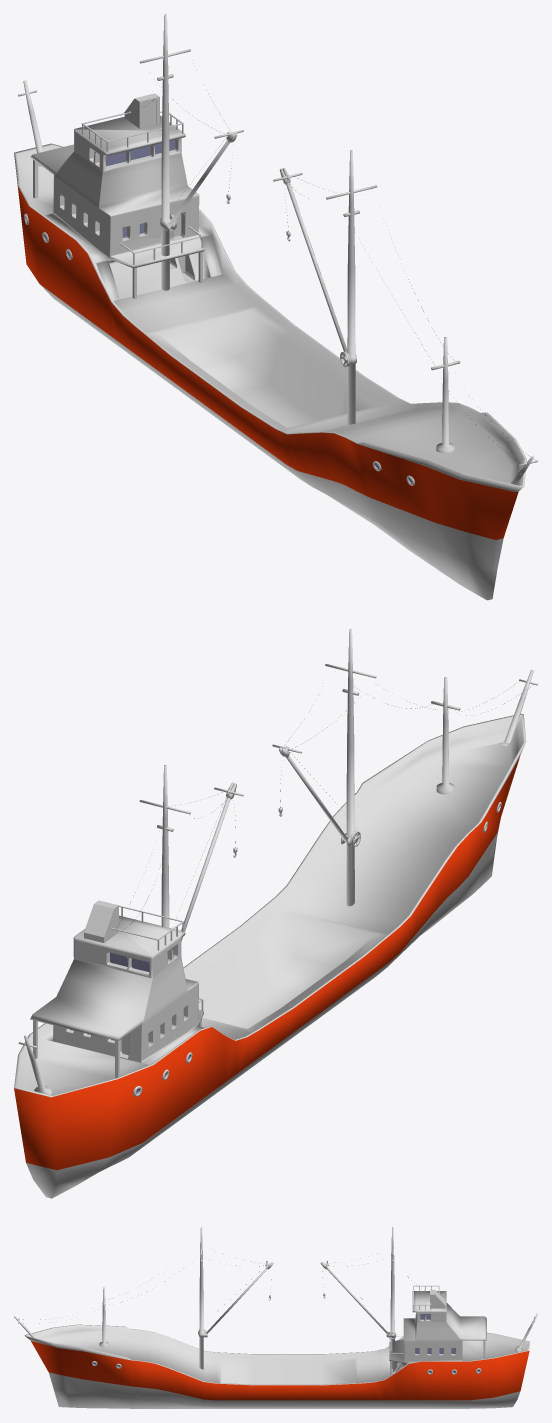
Rendered from fishing_ship.glb.
3 renders of one model, top to bottom at view 1: azimuth 30°, elevation 25°; view 2: azimuth 150°, elevation 25°; view 3: azimuth 270°, elevation 25°, orthographic. The views are drawn at different scales.
Visible parts, largest first — view 1: Object_6, Object_2, Object_4; view 2: Object_6, Object_2; view 3: Object_6, Object_2.
Boxes of the visible parts, bbox=[...] form: Object_6: bbox=[14, 14, 537, 600]; Object_2: bbox=[15, 162, 518, 539]; Object_4: bbox=[26, 139, 412, 483]; Object_6: bbox=[14, 629, 537, 1198]; Object_2: bbox=[14, 756, 519, 1170]; Object_6: bbox=[14, 1227, 537, 1408]; Object_2: bbox=[31, 1341, 529, 1400].
Size of the model in its own units: 6.14 by 16.34 by 43.39.
